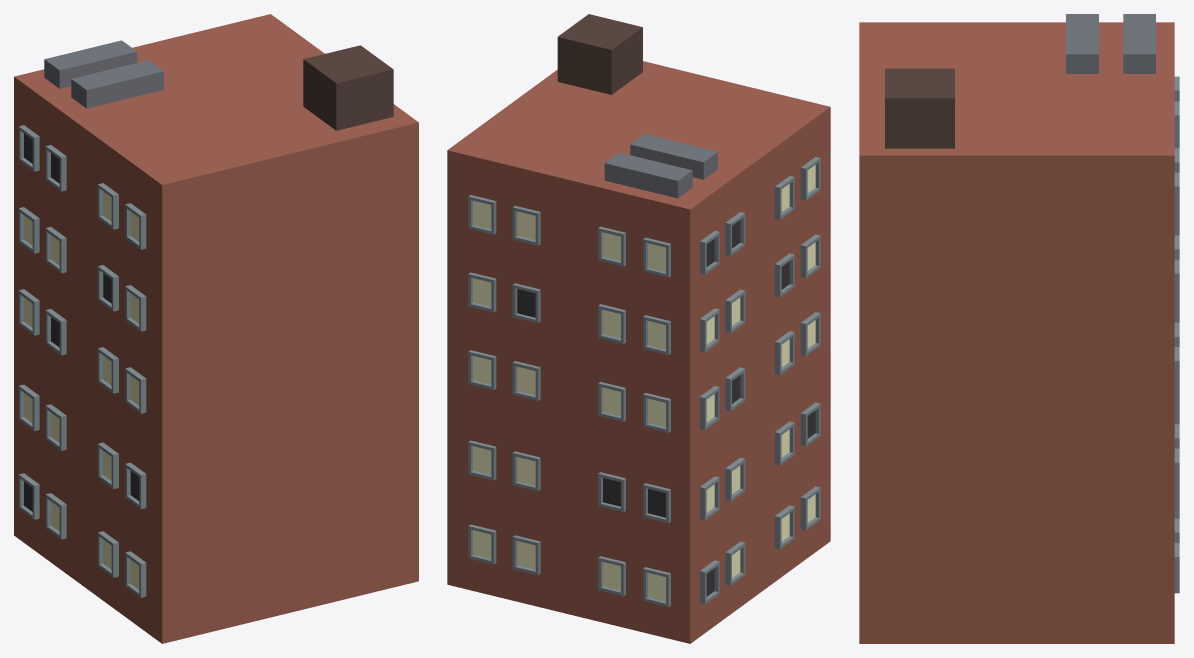
The model's file is Building1.fbx.
The picture shows the model from 3 angles, left to right: view 1: azimuth 30°, elevation 25°; view 2: azimuth 150°, elevation 25°; view 3: azimuth 270°, elevation 25°; orthographic projection. The views are drawn at different scales.
Parts seen in each view (by area): view 1: House; view 2: House; view 3: House.
Boxes of the visible parts, x1=… form: House: x1=14, y1=14, x2=418, y2=643; House: x1=447, y1=14, x2=830, y2=643; House: x1=859, y1=14, x2=1179, y2=643.
Bounding box in the file's own units: 4020 × 4001 × 7420.
